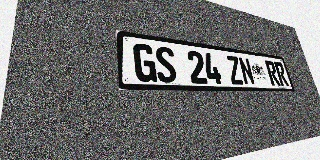2: (186, 50, 208, 84)
4: (202, 52, 223, 84)
G: (133, 43, 158, 82)
N: (238, 57, 256, 85)
R: (264, 60, 281, 86), (274, 61, 289, 86)
S: (154, 46, 178, 83)
Z: (225, 55, 244, 85)
